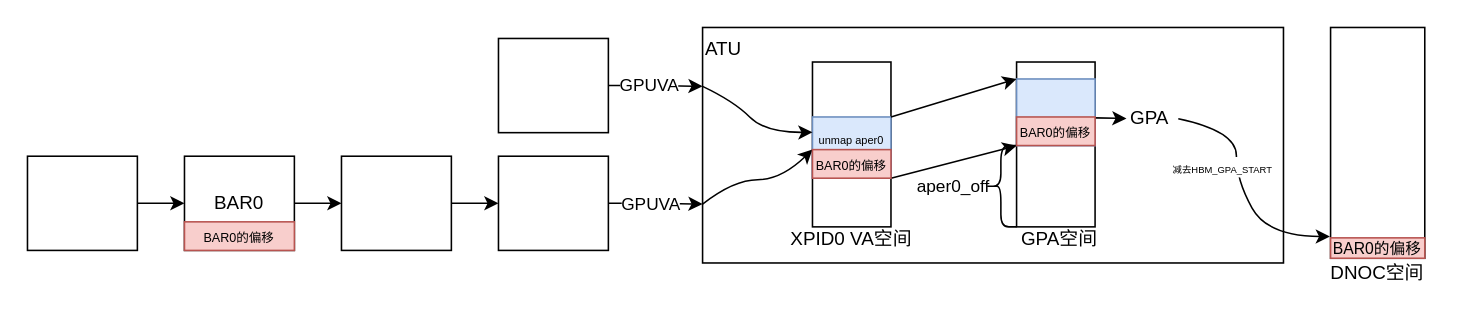
This 1460x325 diagram has some shape labels left out. Each missing label, with the centre of its shape:
CPU: pixel 81 202
HAG: pixel 552 202
PHUB: pixel 395 202
卡内部IP: pixel 552 85
